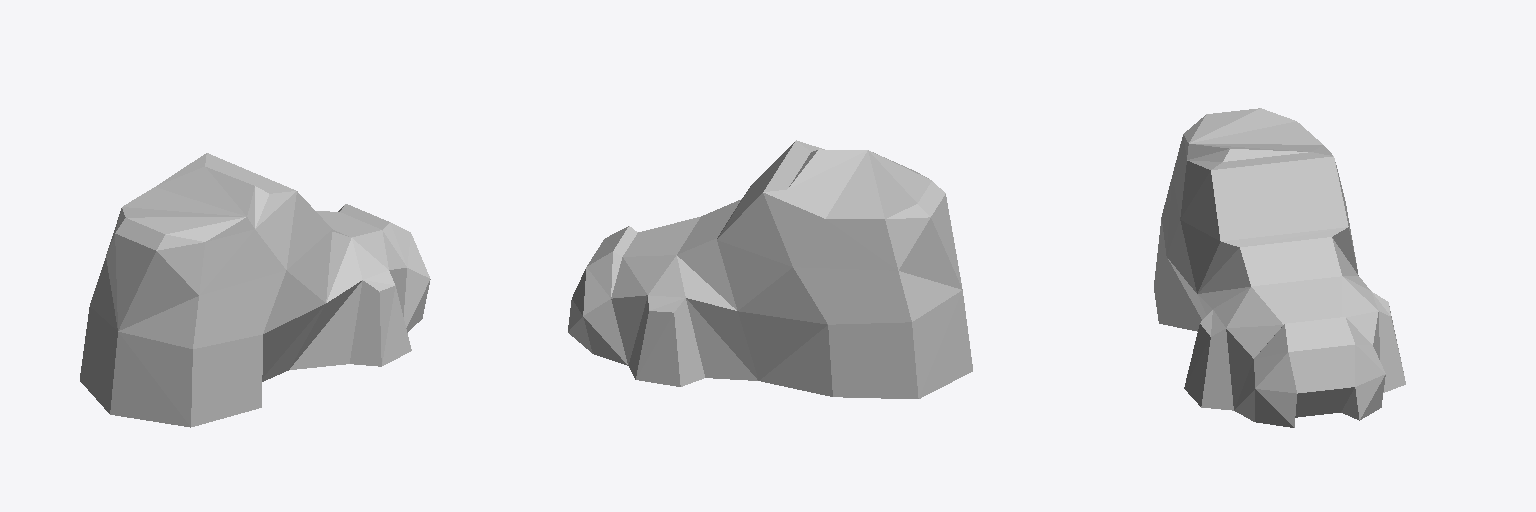
The model's file is Chief Left Foot.obj.
3 renders of one model, left to right at view 1: azimuth 30°, elevation 25°; view 2: azimuth 150°, elevation 25°; view 3: azimuth 270°, elevation 25°, orthographic.
Parts seen in each view (by area): view 1: MasterChief; view 2: MasterChief; view 3: MasterChief.
Part boxes in pixels (left/top/right/bottom): MasterChief: left=80, top=153, right=430, bottom=427; MasterChief: left=568, top=140, right=972, bottom=398; MasterChief: left=1154, top=108, right=1405, bottom=427.
Bounding box in the file's own units: 0.2039 × 0.105 × 0.127.